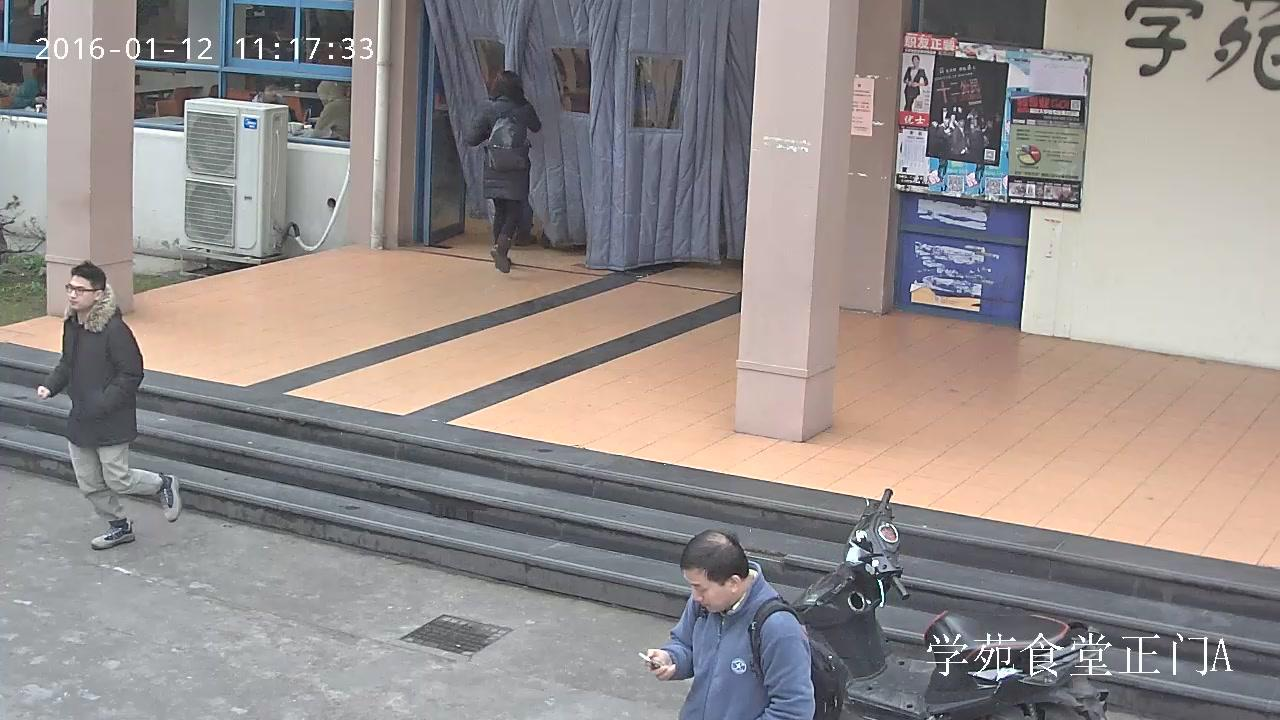person: (37, 258, 182, 550), (637, 530, 815, 720), (465, 70, 541, 273), (314, 79, 351, 142), (903, 55, 928, 111)
